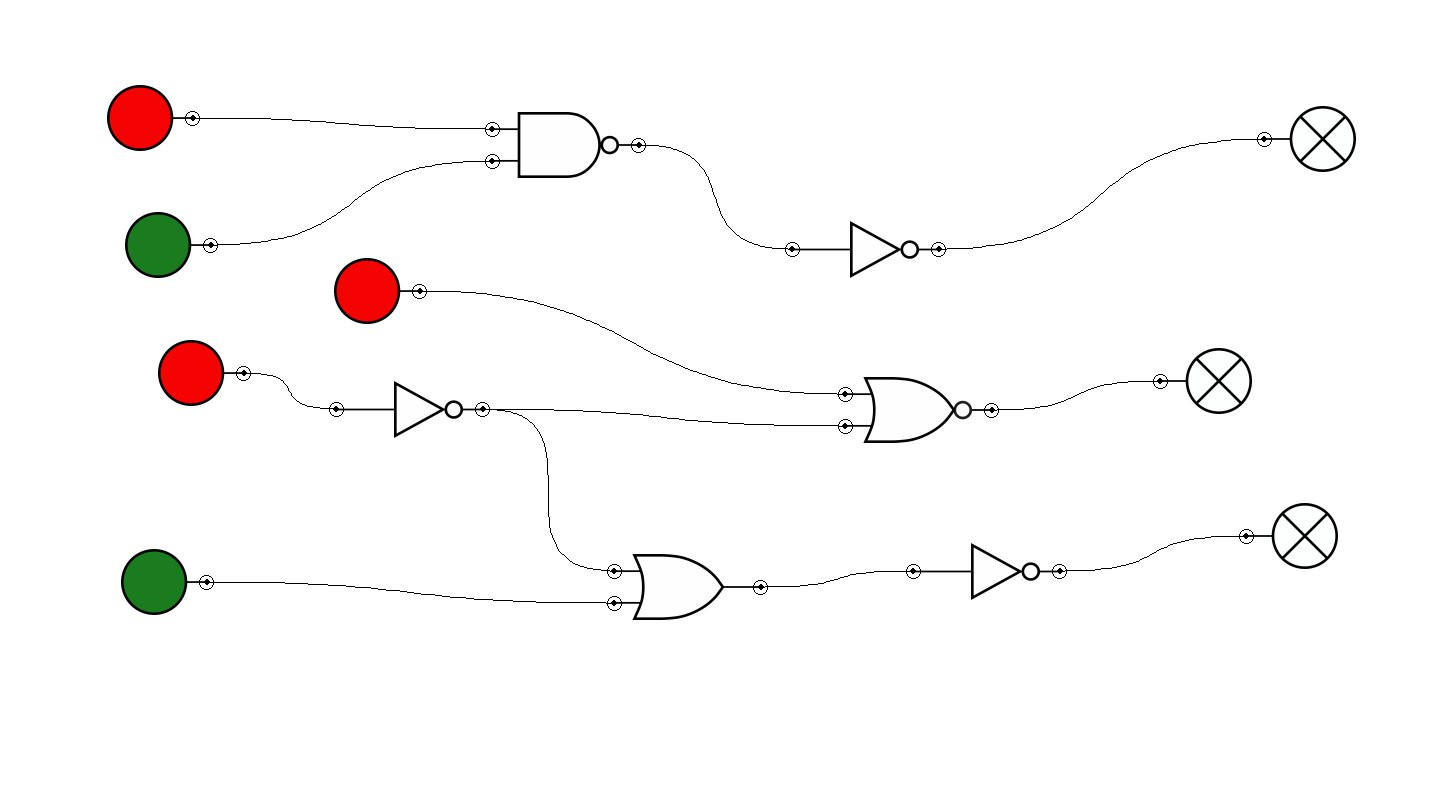bulb: (1153, 348, 1252, 414), (1257, 106, 1356, 172), (1239, 503, 1338, 569)
nand: (485, 112, 646, 178)
nor: (838, 377, 999, 443)
not: (906, 543, 1067, 600), (785, 221, 946, 278), (329, 381, 490, 438)
or: (607, 554, 768, 620)
switch_False: (334, 258, 427, 324), (107, 85, 200, 151), (158, 340, 251, 406)
switch_True: (125, 212, 218, 278), (121, 549, 214, 615)
